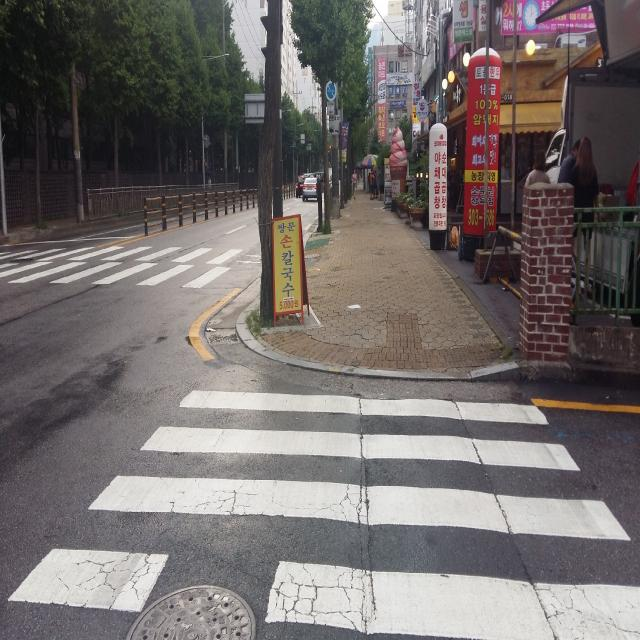횡단보도: (8, 391, 640, 640), (0, 222, 250, 314)
